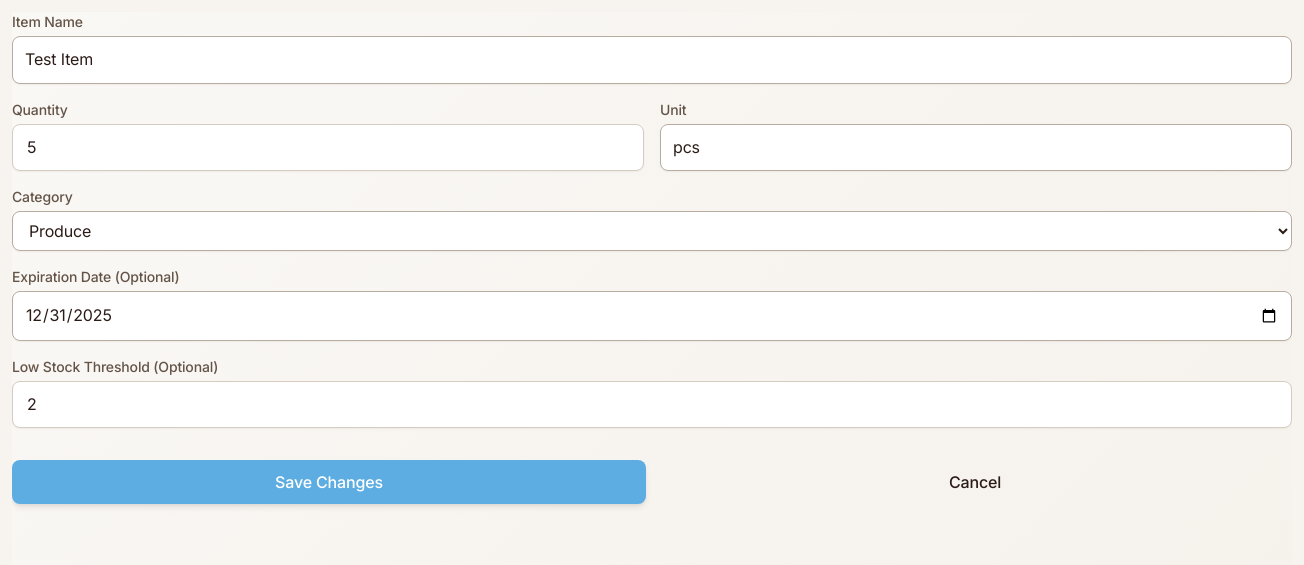
Test: EditPantryItemForm › validates quantity cannot be empty
// Clear the input to make it empty, which should trigger validation
Clear the number field labelled "Quantity": (328, 147) [12, 124, 644, 171]
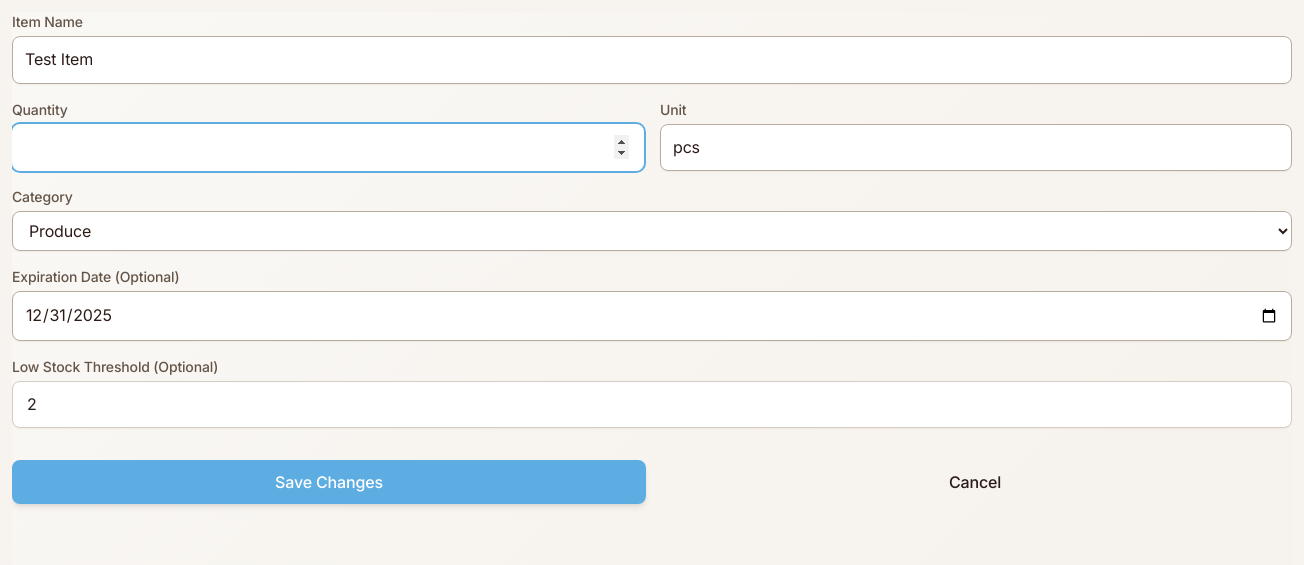
// Submit the form with empty quantity
Click the button "Save Changes": (329, 482) [12, 460, 646, 504]
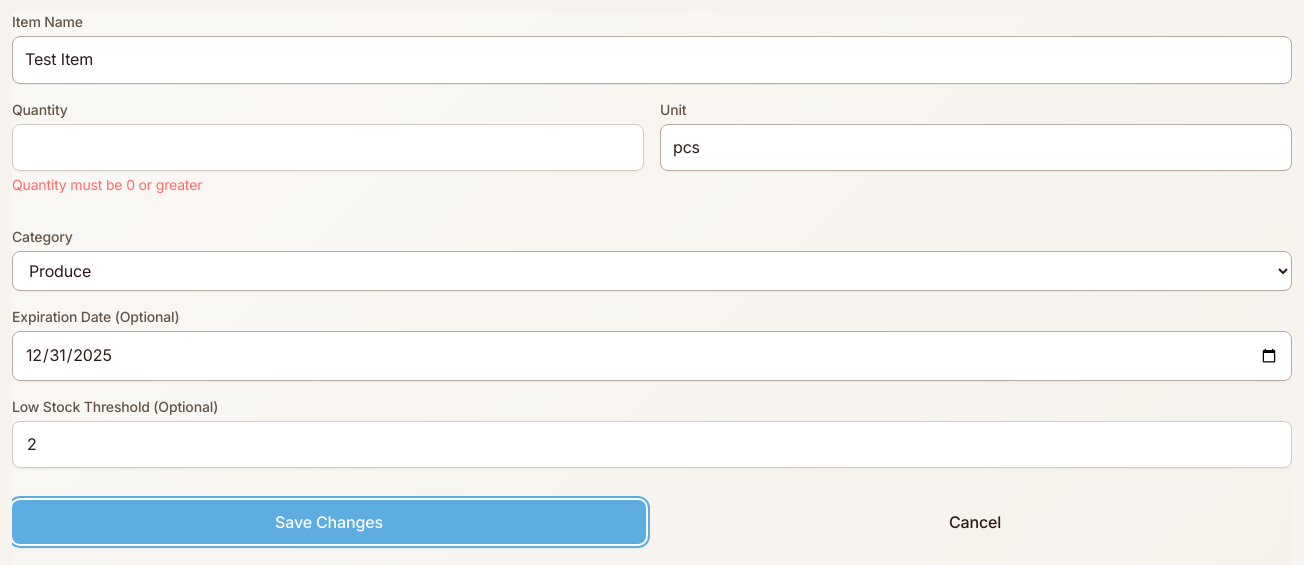
Result: the text "Quantity must be 0 or greater" is shown at [12, 176, 202, 193]
